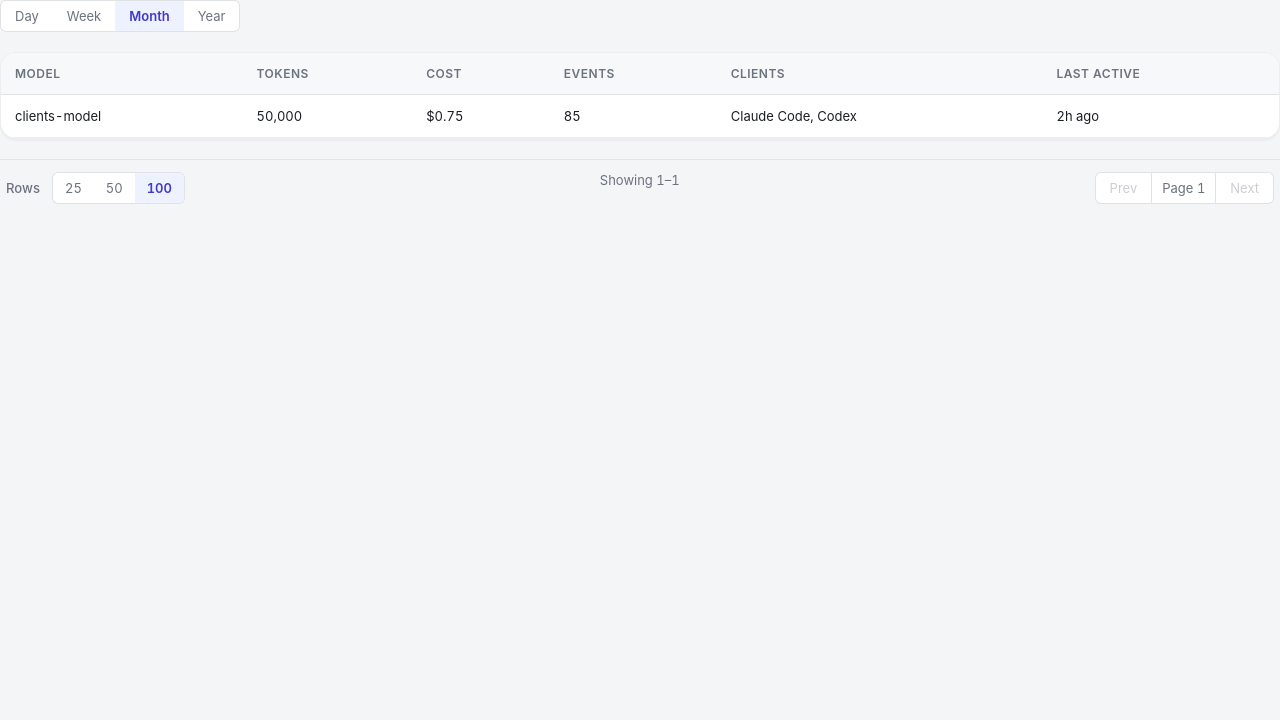
ModelsPage › displays client mix in detail drawer
Click the text "clients-model" at coordinates (122, 116), box [1,94,242,138]
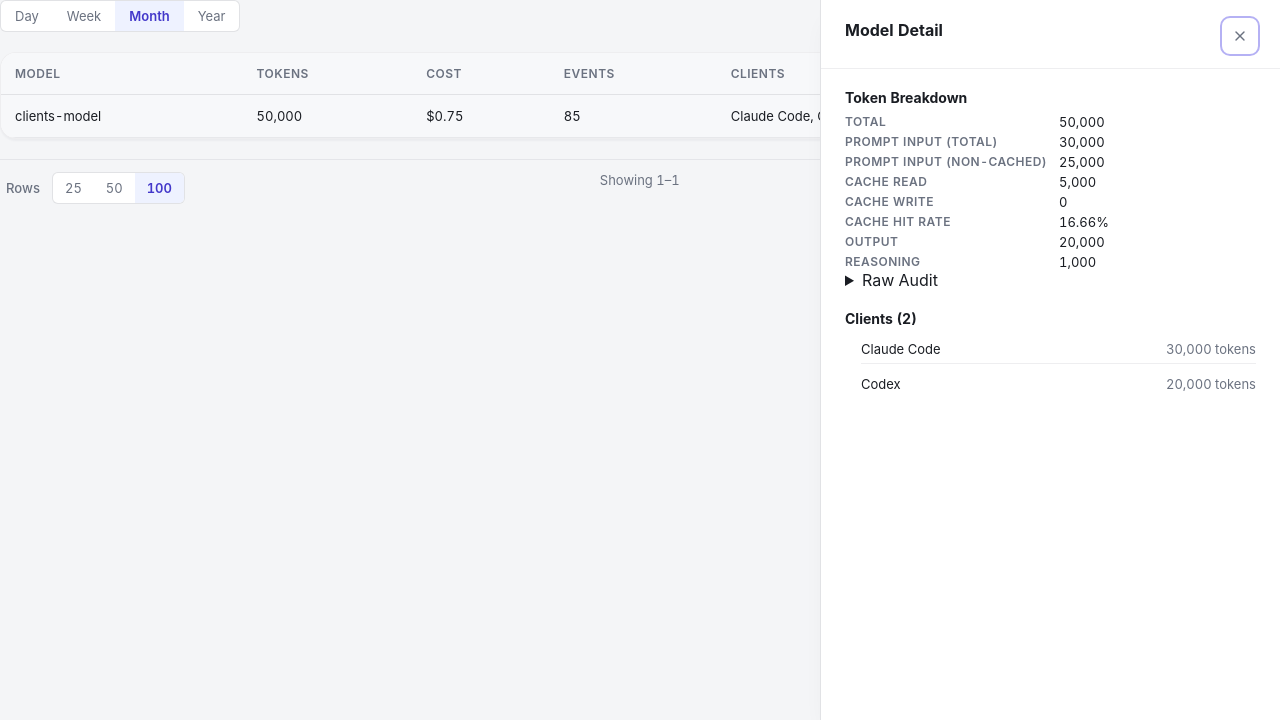
Expected: the heading "Clients (2)" is shown, [845,310,917,327]
Expected: the text "Claude Code" is shown, [861,341,940,357]
